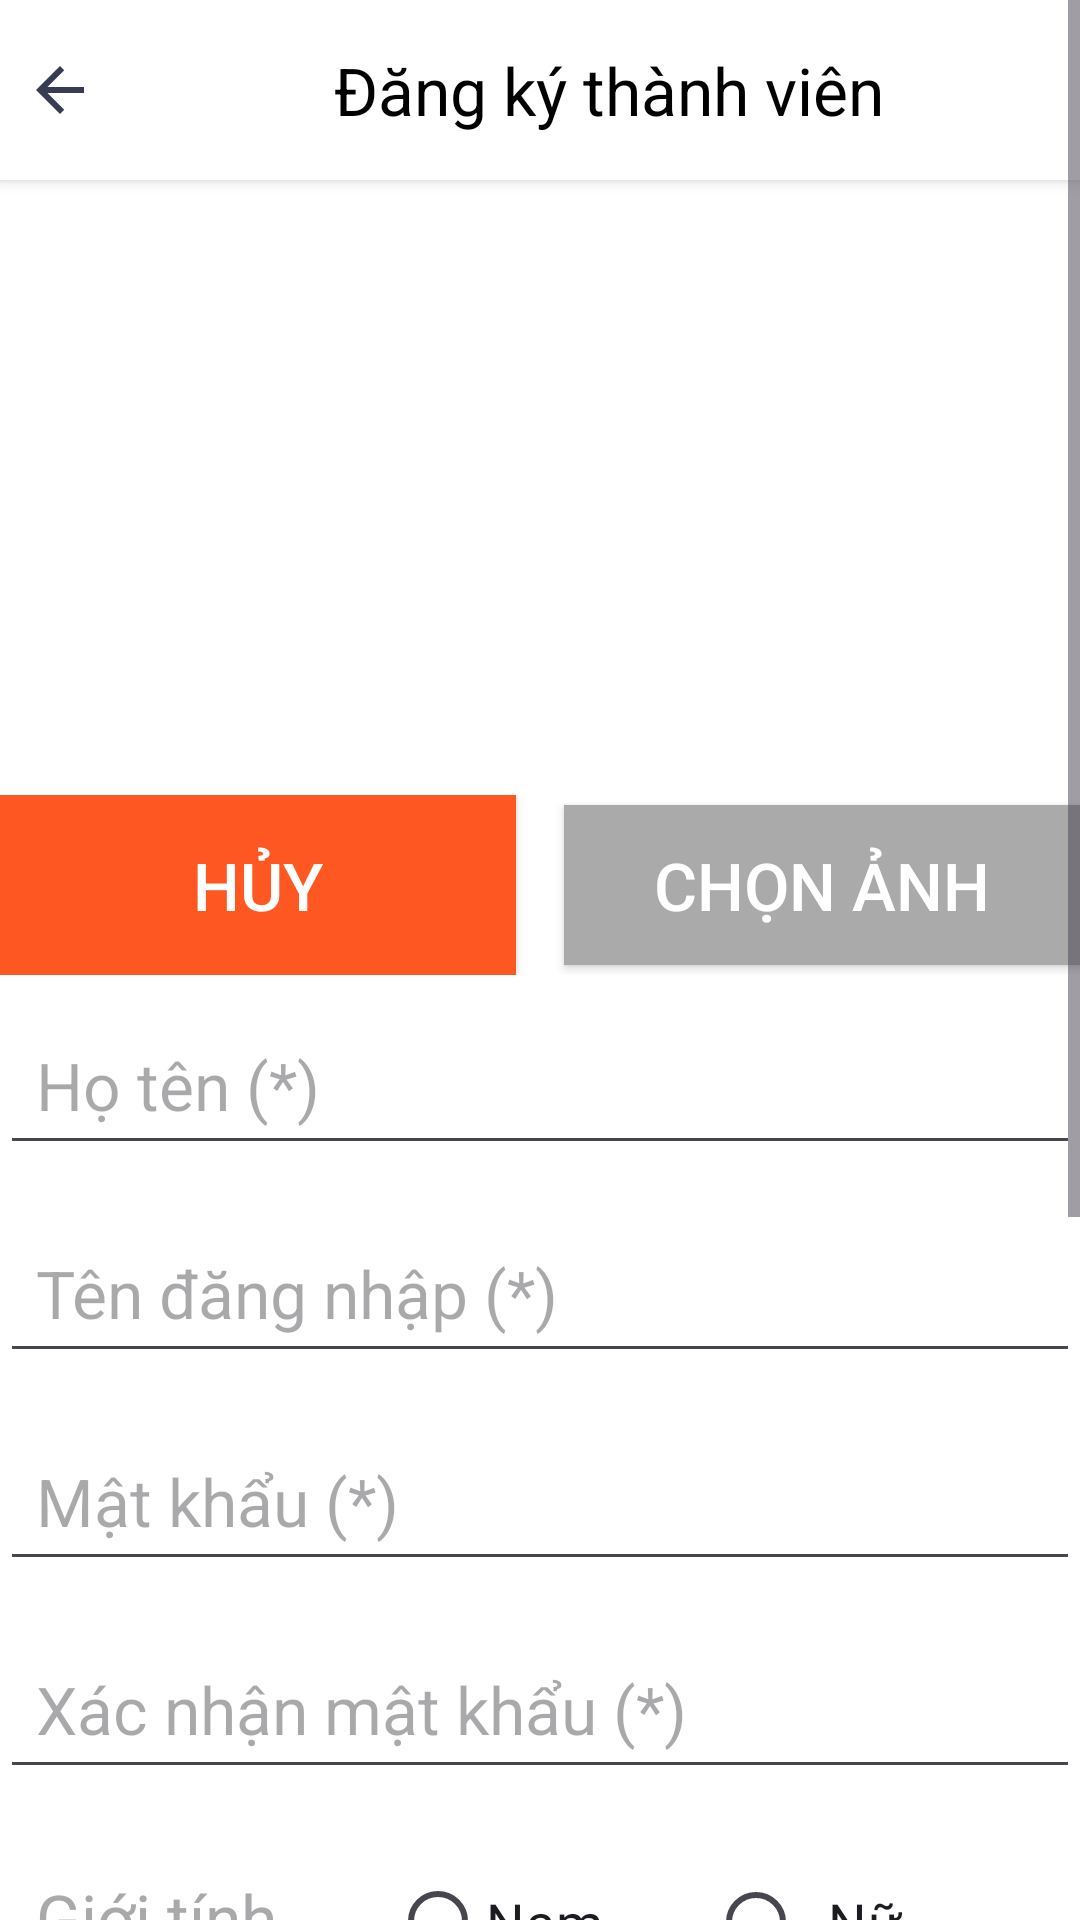

Icons on this 1080px x 1920px Android screen, each with its box as (x1, y1, x2, y2):
arrow back: (36, 66, 84, 114)
